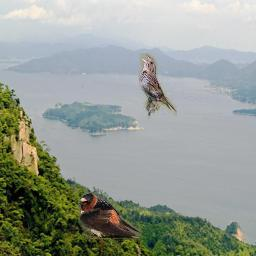Sparrow: (138, 53, 177, 129)
Swallow: (78, 192, 142, 239)
